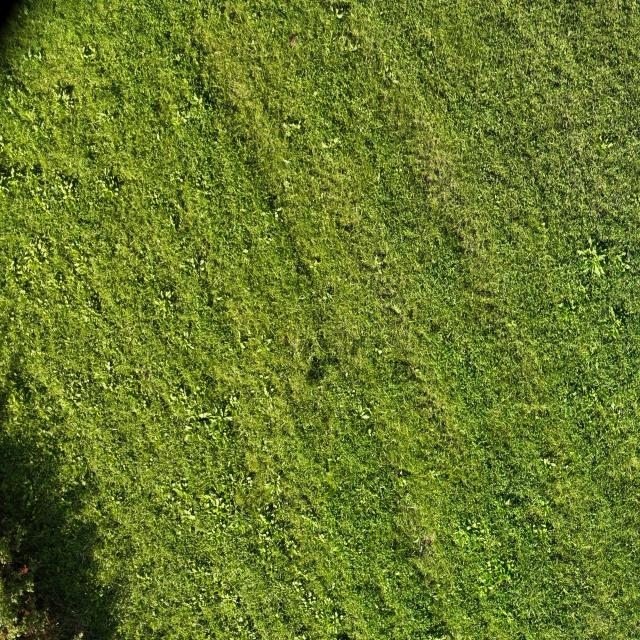rumex: (123, 541, 202, 634), (52, 219, 108, 320), (89, 354, 143, 430), (0, 148, 49, 215), (187, 393, 240, 452), (416, 141, 458, 206), (166, 93, 204, 149), (3, 374, 35, 432), (212, 586, 247, 632), (386, 355, 424, 392), (51, 173, 83, 215), (317, 596, 346, 636), (347, 398, 372, 432), (18, 244, 44, 276), (607, 301, 632, 330), (280, 120, 306, 147), (258, 478, 281, 504), (594, 136, 618, 160), (489, 563, 513, 586), (227, 80, 250, 104), (203, 500, 228, 522), (7, 77, 32, 99), (242, 451, 263, 477), (154, 295, 173, 322), (101, 498, 123, 521), (426, 618, 449, 640), (328, 1, 352, 22), (97, 180, 117, 203), (176, 329, 194, 349), (177, 389, 195, 409), (57, 89, 73, 111), (386, 300, 404, 319), (450, 530, 468, 549), (561, 295, 579, 314), (21, 478, 35, 502), (382, 69, 399, 88), (5, 392, 21, 412), (532, 524, 551, 540), (323, 471, 337, 492), (226, 394, 241, 413), (233, 487, 247, 507), (170, 484, 186, 501), (200, 412, 216, 427), (66, 464, 81, 480), (10, 532, 22, 552), (182, 508, 197, 522), (60, 84, 75, 98), (31, 161, 44, 177), (589, 258, 602, 274), (82, 45, 96, 59), (71, 260, 84, 275), (291, 337, 300, 358), (588, 390, 600, 405), (396, 477, 408, 490), (614, 253, 626, 266), (256, 514, 268, 527), (281, 178, 292, 192), (608, 305, 616, 323), (600, 140, 614, 150), (169, 217, 177, 234), (379, 588, 387, 605), (174, 200, 183, 215), (78, 46, 86, 62), (369, 122, 383, 131), (96, 111, 107, 122), (337, 35, 347, 47), (556, 302, 568, 312), (396, 468, 408, 478), (24, 582, 34, 594), (210, 498, 220, 510), (542, 458, 554, 467), (40, 247, 49, 259), (478, 576, 488, 586), (452, 630, 462, 640), (15, 268, 24, 279), (348, 42, 357, 53), (163, 30, 172, 41), (198, 259, 206, 271), (191, 94, 200, 104), (36, 241, 44, 252), (223, 414, 234, 422), (295, 294, 306, 302), (263, 385, 270, 397), (587, 236, 594, 248), (284, 129, 292, 139), (610, 401, 618, 411), (12, 412, 20, 422), (576, 248, 586, 256), (306, 353, 313, 364), (212, 573, 219, 584), (27, 48, 33, 60), (163, 290, 171, 299), (100, 382, 108, 391), (39, 118, 45, 130), (408, 504, 417, 512), (173, 54, 180, 64), (188, 256, 195, 266), (321, 140, 328, 150), (11, 595, 18, 605), (282, 159, 290, 167), (312, 260, 320, 268), (332, 137, 340, 145), (76, 631, 84, 639), (239, 342, 246, 351), (242, 248, 249, 257), (335, 9, 342, 18), (376, 347, 383, 356), (36, 51, 42, 61), (63, 296, 69, 306), (307, 592, 313, 602), (594, 360, 599, 372), (471, 521, 478, 529), (504, 498, 511, 506), (395, 570, 402, 578), (313, 89, 319, 98), (274, 212, 279, 222), (274, 207, 282, 213), (32, 124, 38, 132), (334, 6, 339, 15), (111, 426, 118, 432), (156, 132, 160, 142), (13, 616, 18, 624), (98, 592, 104, 598), (467, 524, 472, 530)
